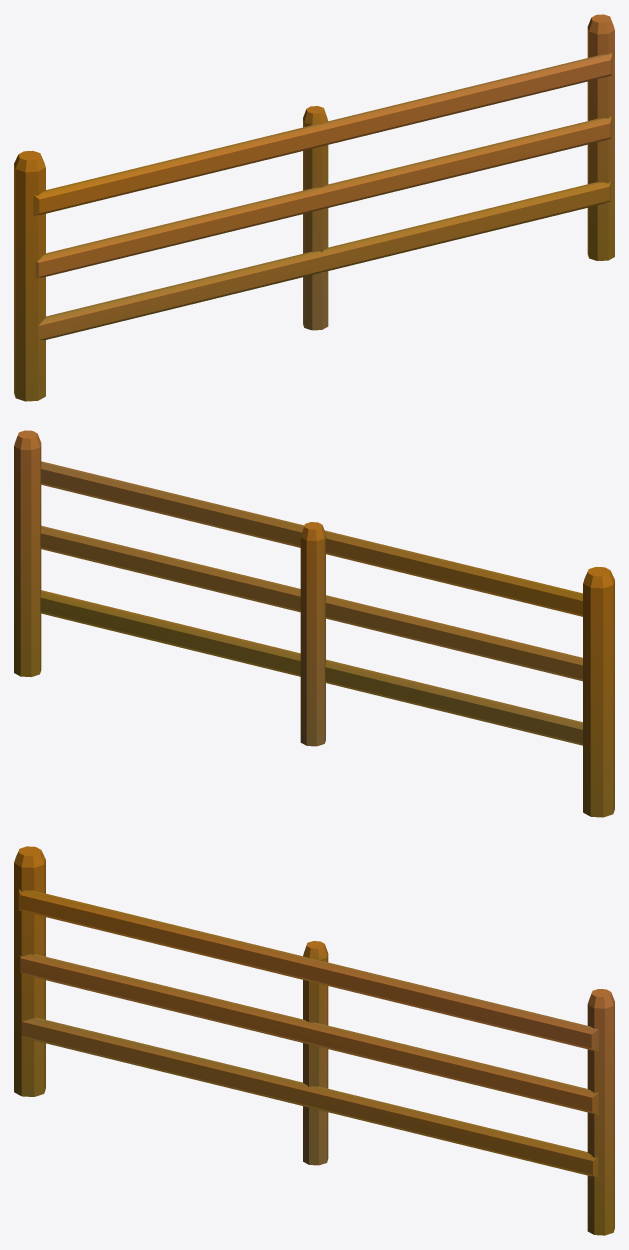
The model's file is Farm_Fence_3m.fbx.
The picture shows the model from 3 angles, top to bottom: view 1: azimuth 30°, elevation 25°; view 2: azimuth 150°, elevation 25°; view 3: azimuth 330°, elevation 25°; orthographic projection.
Visible parts, largest first — view 1: Farm_Fence_3m; view 2: Farm_Fence_3m; view 3: Farm_Fence_3m.
Boxes of the visible parts, bbox=[...] form: Farm_Fence_3m: bbox=[14, 14, 614, 401]; Farm_Fence_3m: bbox=[14, 430, 614, 817]; Farm_Fence_3m: bbox=[14, 846, 614, 1235].
Bounding box in the file's own units: 3.14 × 1.2 × 0.162.
